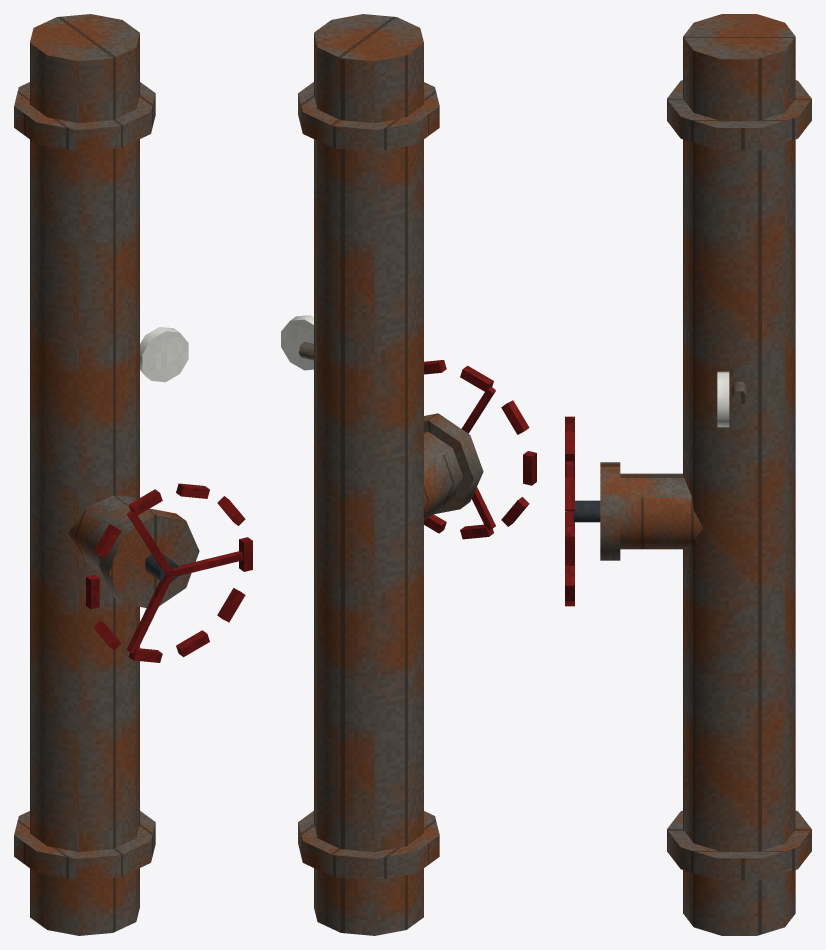
The model's file is tfg_sewer_valve.glb.
The picture shows the model from 3 angles, left to right: view 1: azimuth 30°, elevation 25°; view 2: azimuth 150°, elevation 25°; view 3: azimuth 270°, elevation 25°; orthographic projection.
Parts seen in each view (by area): view 1: tfg_sewer_valve; view 2: tfg_sewer_valve; view 3: tfg_sewer_valve.
Boxes of the visible parts, <box> form: tfg_sewer_valve: <box>14,14,252,935</box>; tfg_sewer_valve: <box>281,14,536,935</box>; tfg_sewer_valve: <box>565,14,811,935</box>.
Bounding box in the file's own units: 0.4991 × 2.4 × 0.6125.
4 materials, 4 textured.
